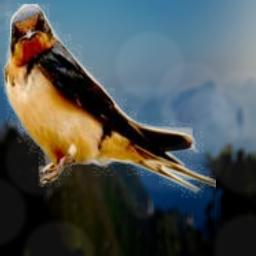Swallow: (2, 3, 216, 202)
